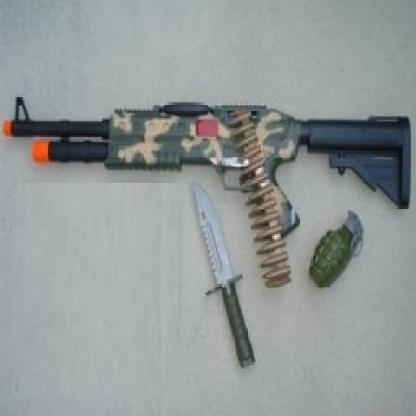Grenade: (308, 209, 366, 293)
Gun: (0, 95, 412, 236)
Knife: (191, 179, 257, 370)
